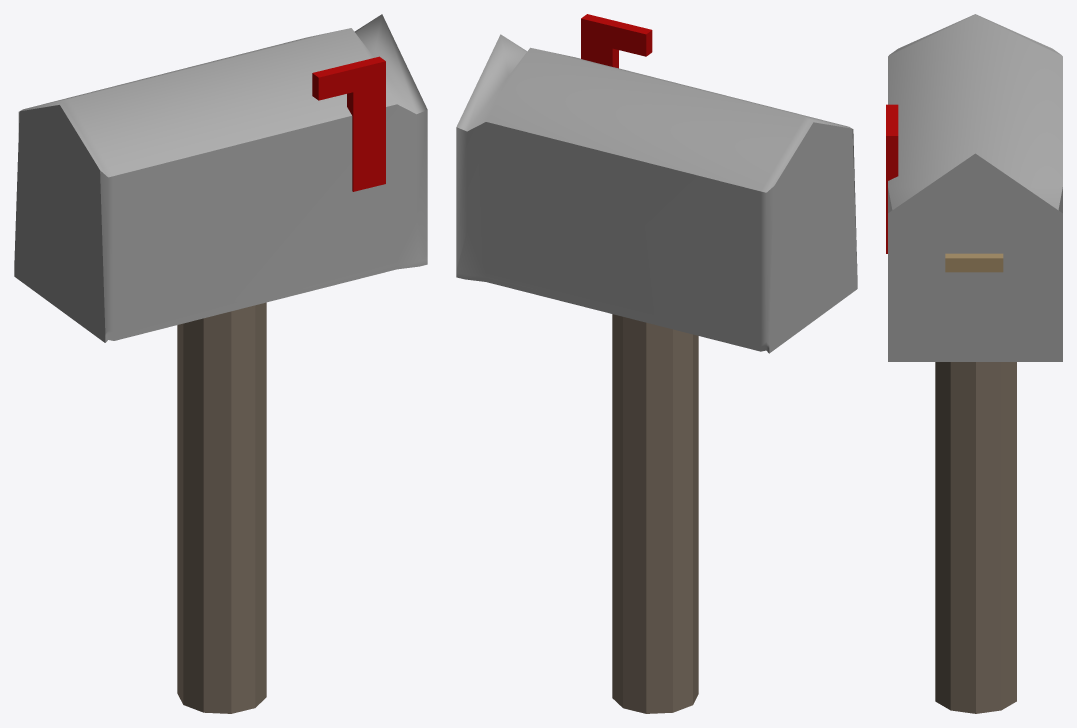
The model's file is mailbox.fbx.
The picture shows the model from 3 angles, left to right: view 1: azimuth 30°, elevation 25°; view 2: azimuth 150°, elevation 25°; view 3: azimuth 270°, elevation 25°; orthographic projection. The views are drawn at different scales.
Visible parts, largest first — view 1: pCube38; view 2: pCube38; view 3: pCube38.
Boxes of the visible parts, x1,y1,x2,y2 form: pCube38: (14,14,427,713); pCube38: (456,14,857,713); pCube38: (886,14,1062,713).
Size of the model in its own units: 1.3 by 2.41 by 0.626.
